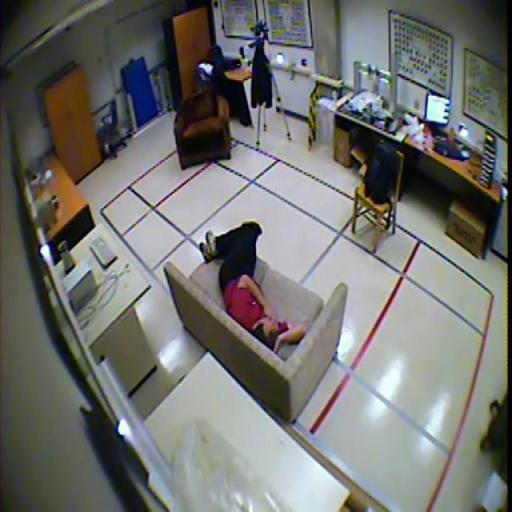Fall: (198, 221, 307, 350)
